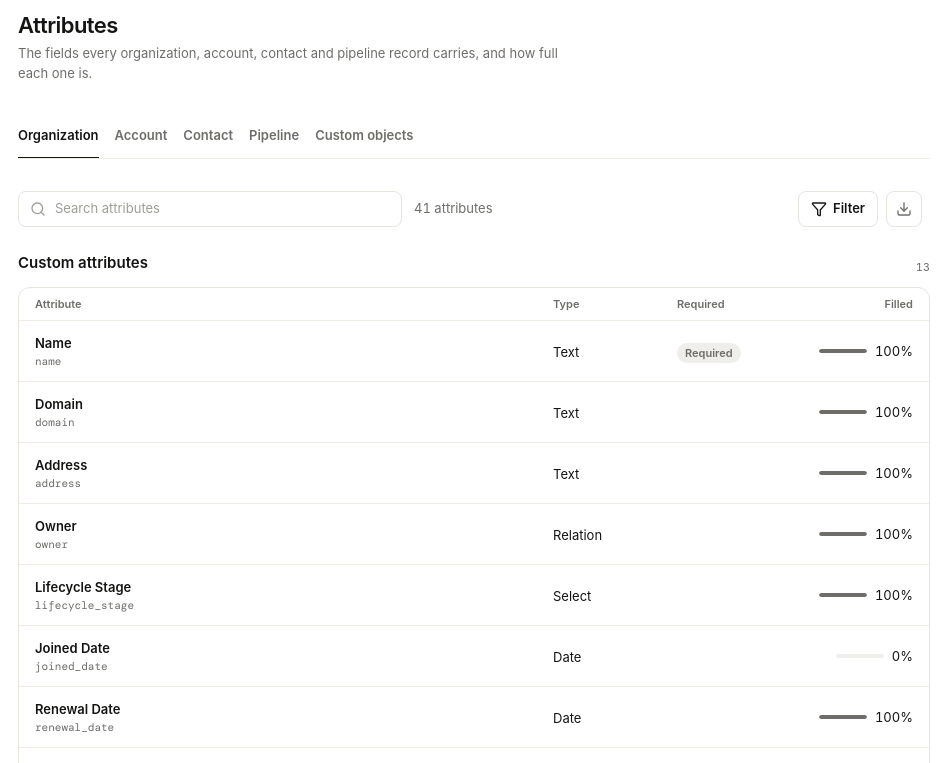
Test: SettingsPage — Data tab, Account sub-tab › searching filters the attribute list by display name or field name
The image size is (947, 763).
Step 1. Click the tab "Account" → (141, 136), box [114,114,167,158]
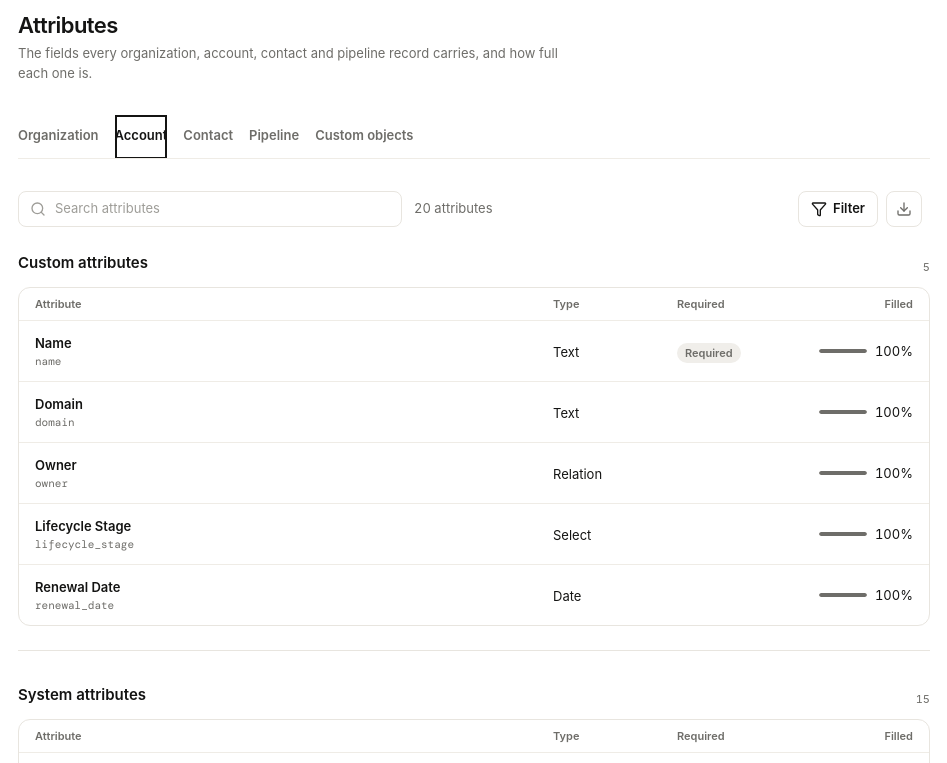
expect the element "Custom attributes" is shown: met, box [18,251,930,626]
expect the text "Lifecycle Stage" is shown: met, box [35,518,131,534]
Step 2. Type "lifecycle" into the search field labelled "Search attributes" → (210, 209), box [18,191,402,227]
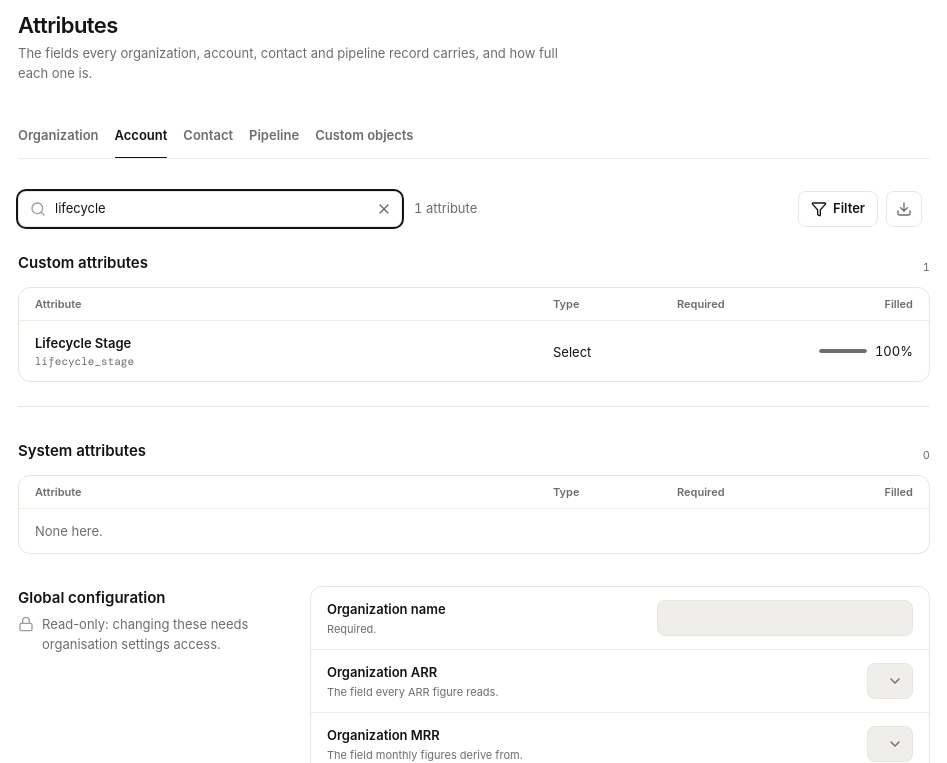
expect the text "Lifecycle Stage" is shown: met, box [35,335,131,351]
expect the text "Domain" is gone: met
